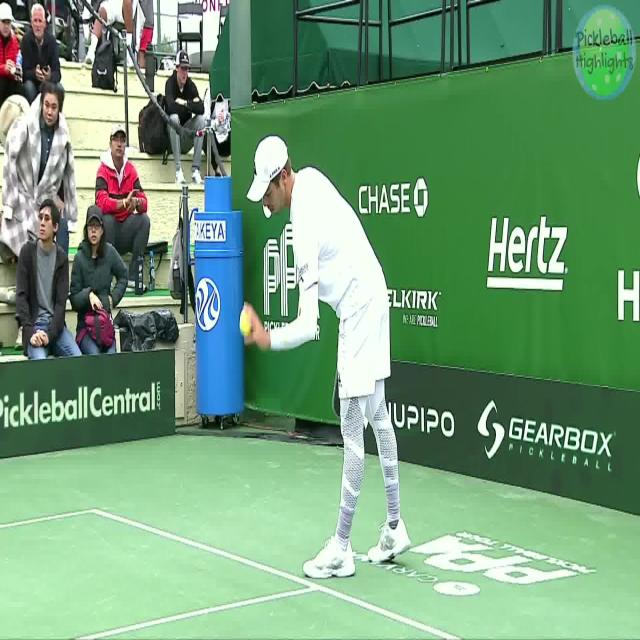ball: (235, 296, 253, 336)
